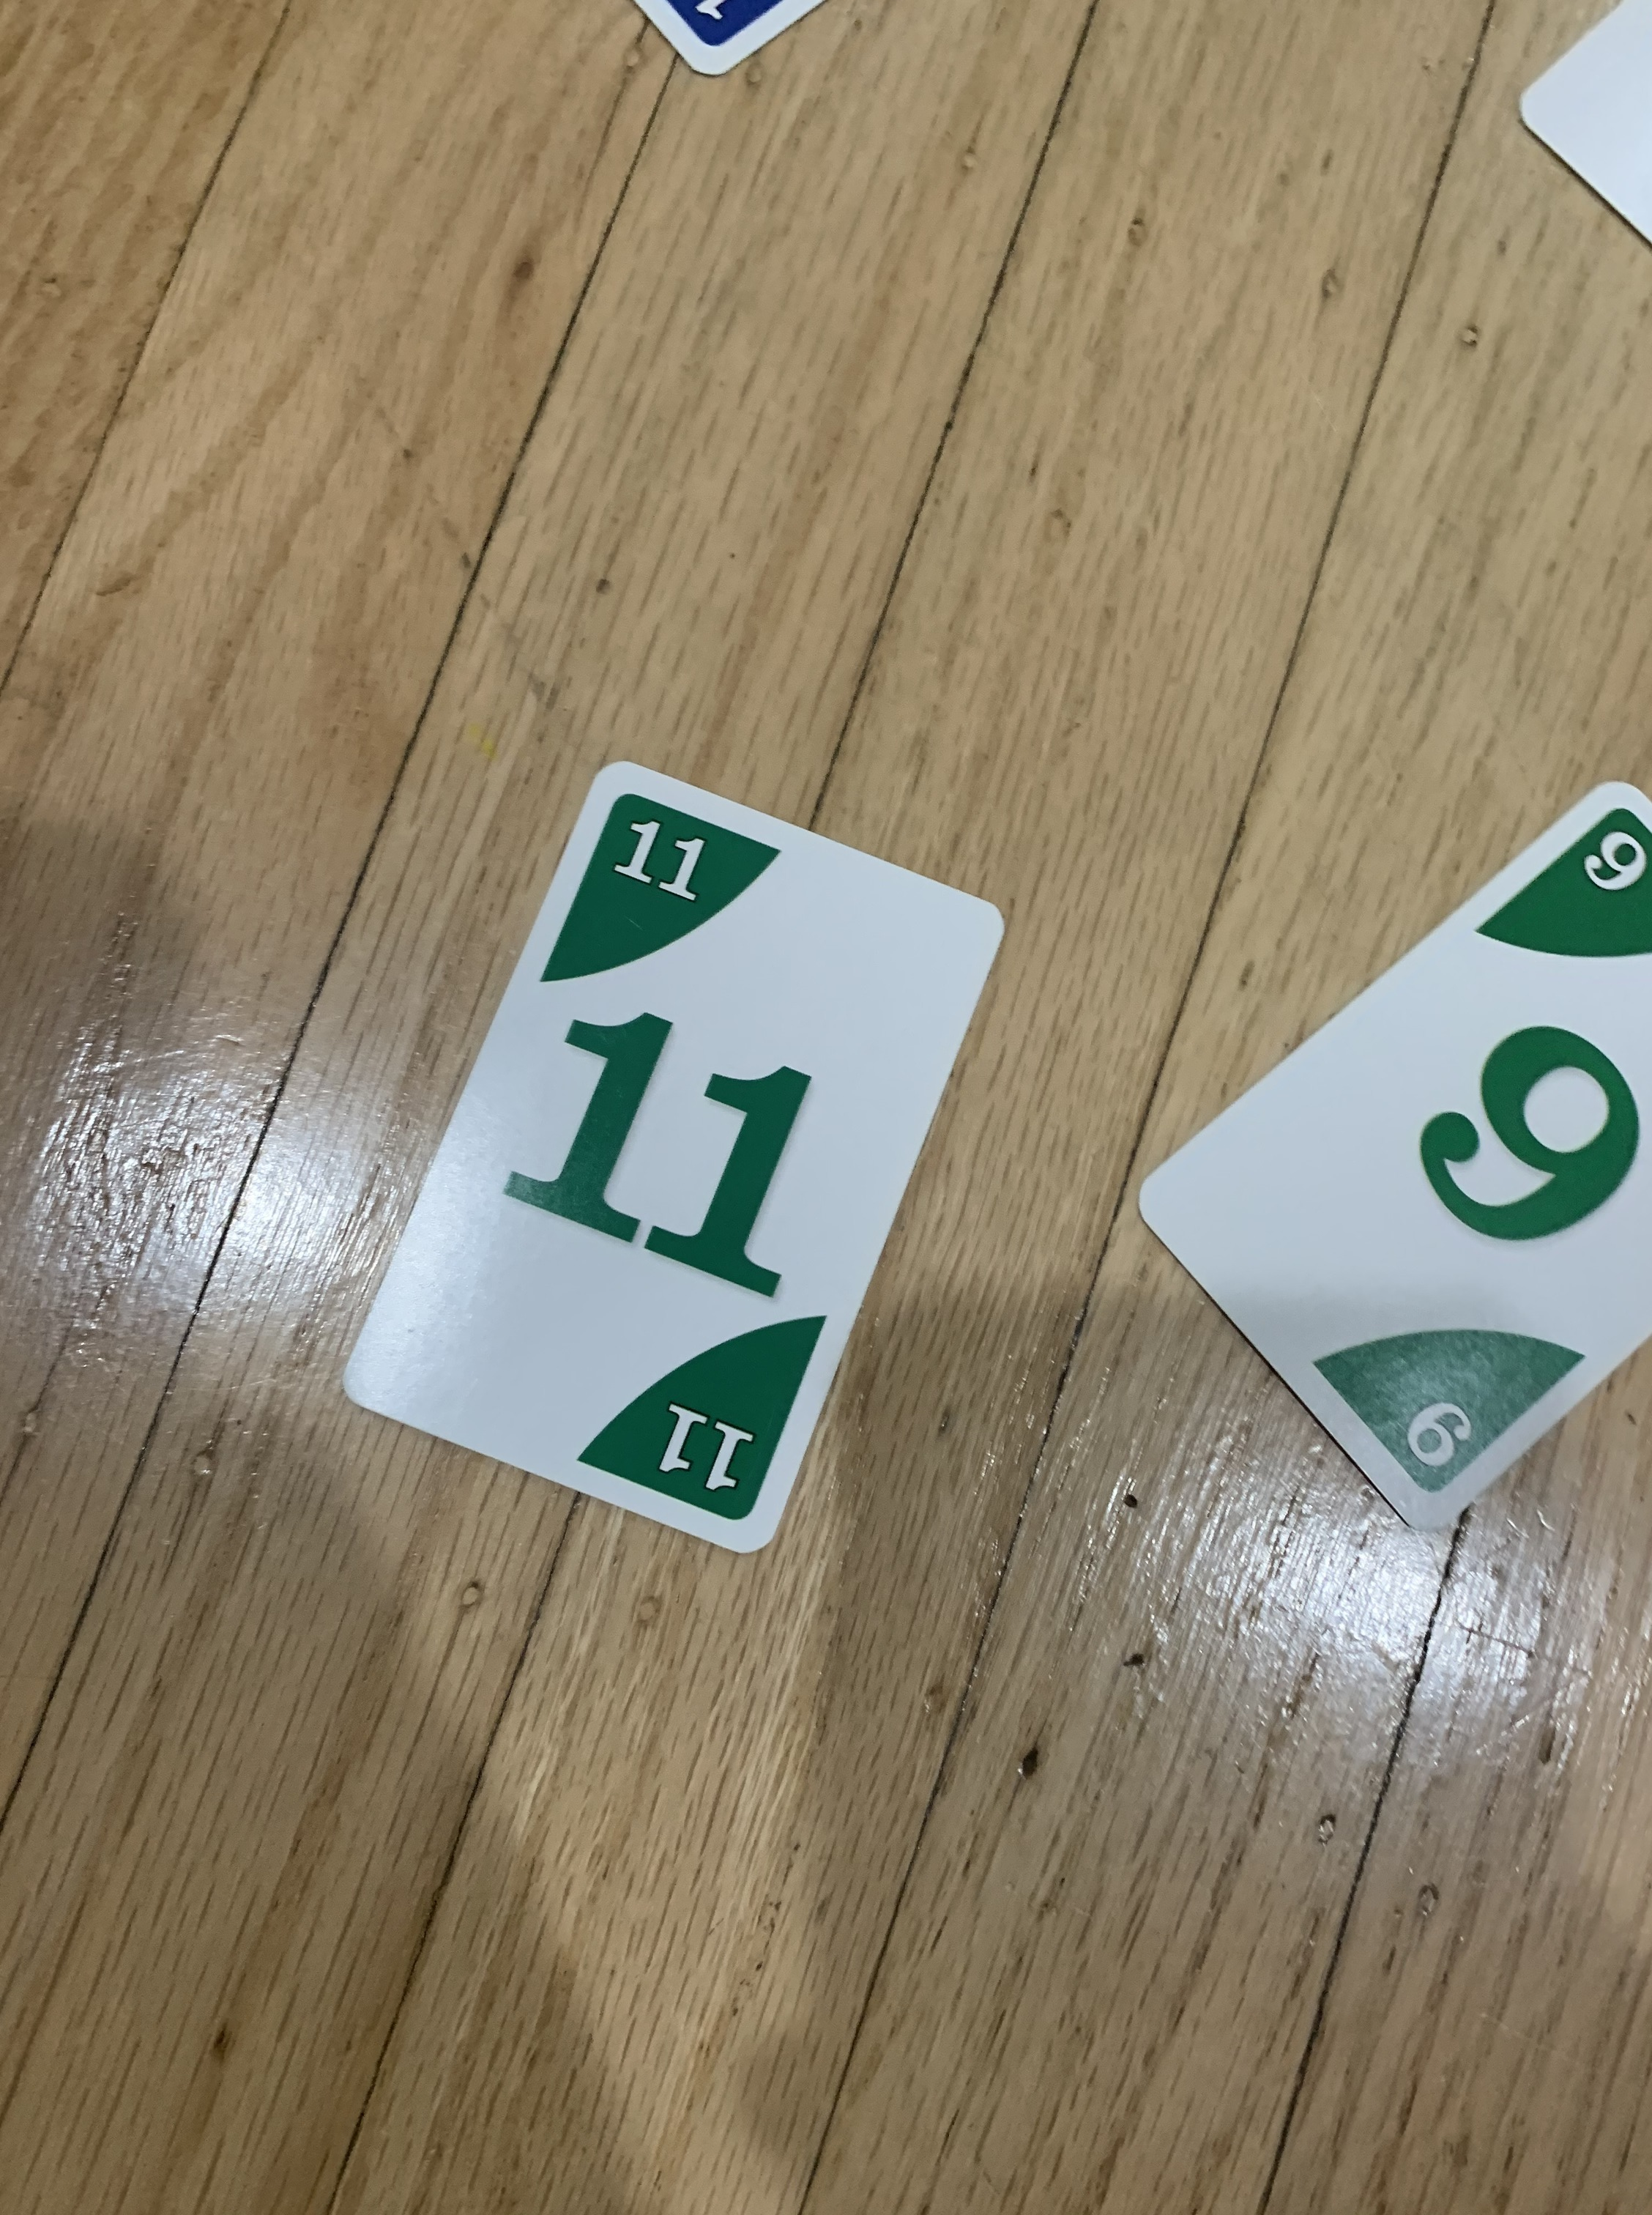eleven: (319, 741, 1022, 1581)
nine: (1116, 766, 1652, 1550)
